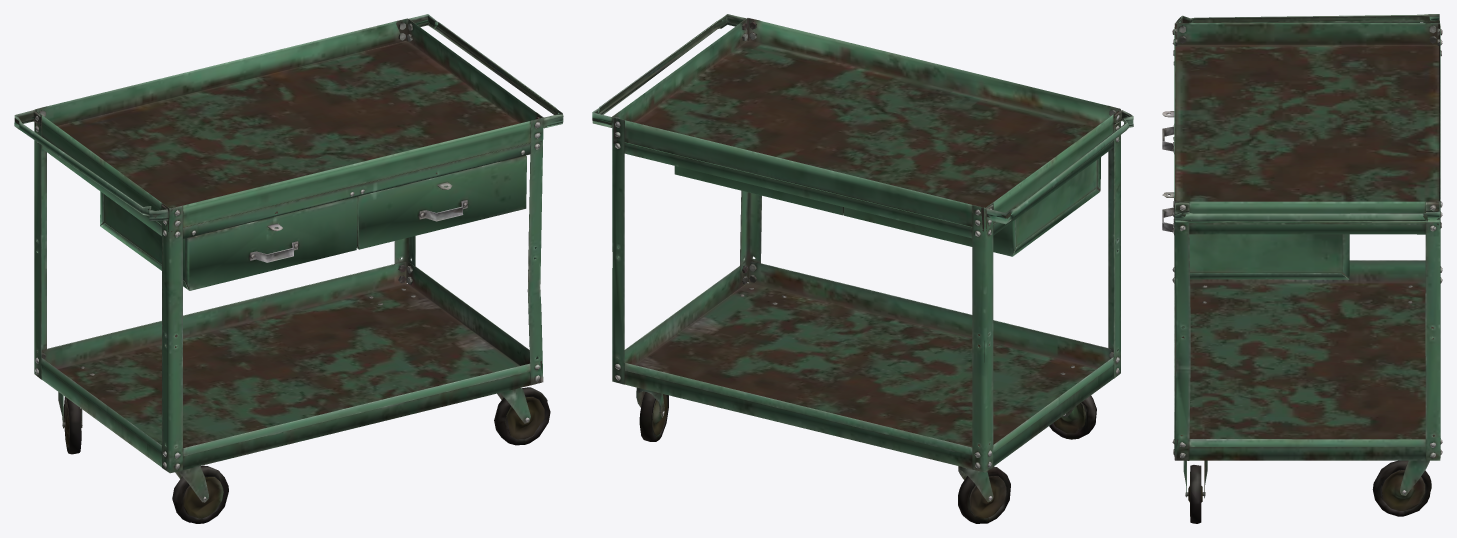
The model's file is tool_cart.glb.
3 renders of one model, left to right at view 1: azimuth 30°, elevation 25°; view 2: azimuth 150°, elevation 25°; view 3: azimuth 270°, elevation 25°, orthographic. The views are drawn at different scales.
Visible parts, largest first — view 1: tool_cart; view 2: tool_cart; view 3: tool_cart.
Boxes of the visible parts, left/top/right/bottom form: tool_cart: left=14, top=14, right=563, bottom=523; tool_cart: left=592, top=14, right=1133, bottom=523; tool_cart: left=1162, top=14, right=1442, bottom=523.
Size of the model in its own units: 1.27 by 0.9647 by 0.7522.
1 material, 1 textured.
